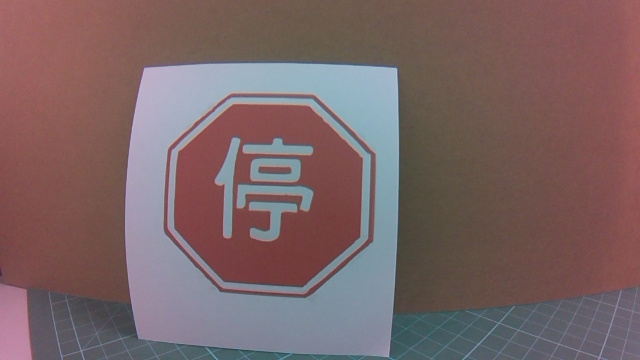stop: (189, 95, 375, 301)
